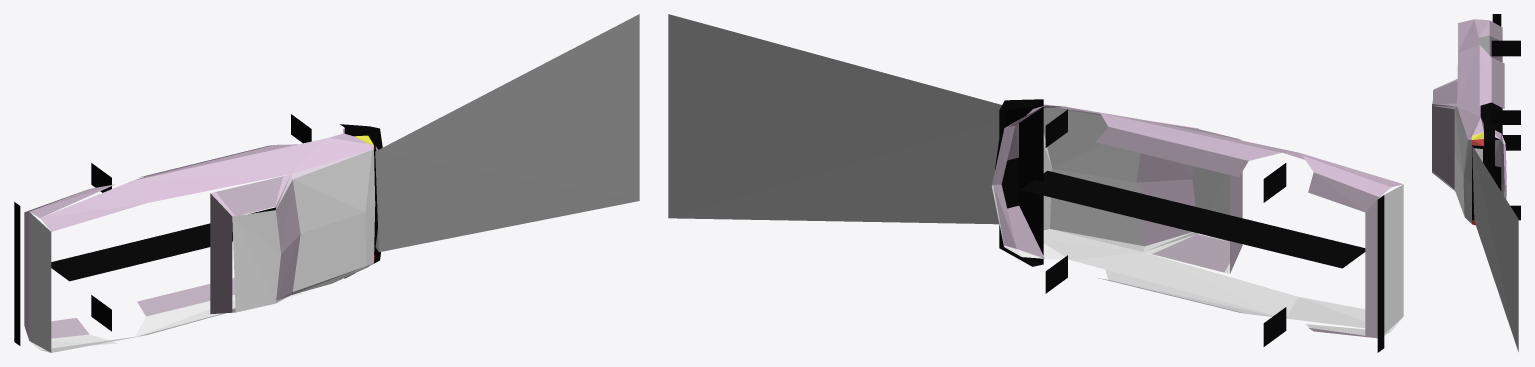
Rendered from objs1_46.obj.
3 renders of one model, left to right at view 1: azimuth 30°, elevation 25°; view 2: azimuth 150°, elevation 25°; view 3: azimuth 270°, elevation 25°, orthographic. The views are drawn at different scales.
Size of the model in its own units: 4.85 by 1.36 by 0.82.
